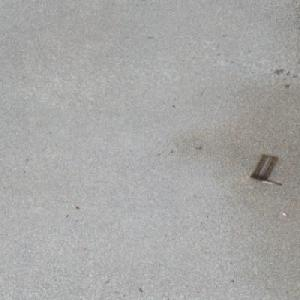MetalPart: (247, 153, 282, 185)
